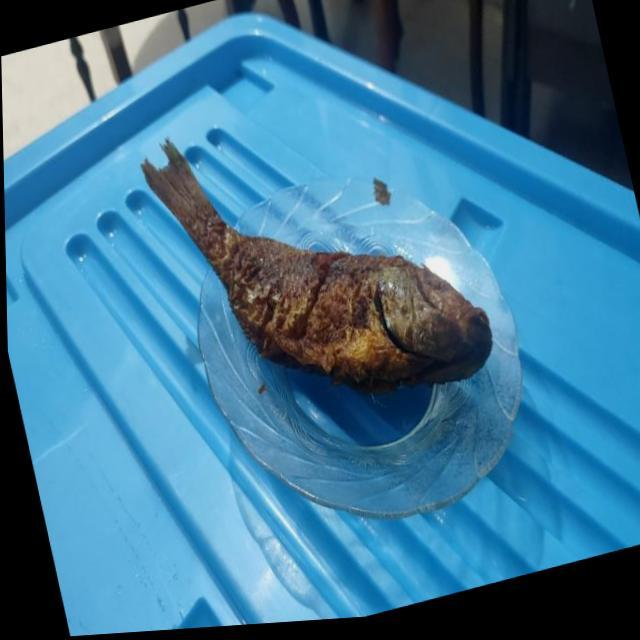ikan_mujair: (141, 138, 492, 394)
